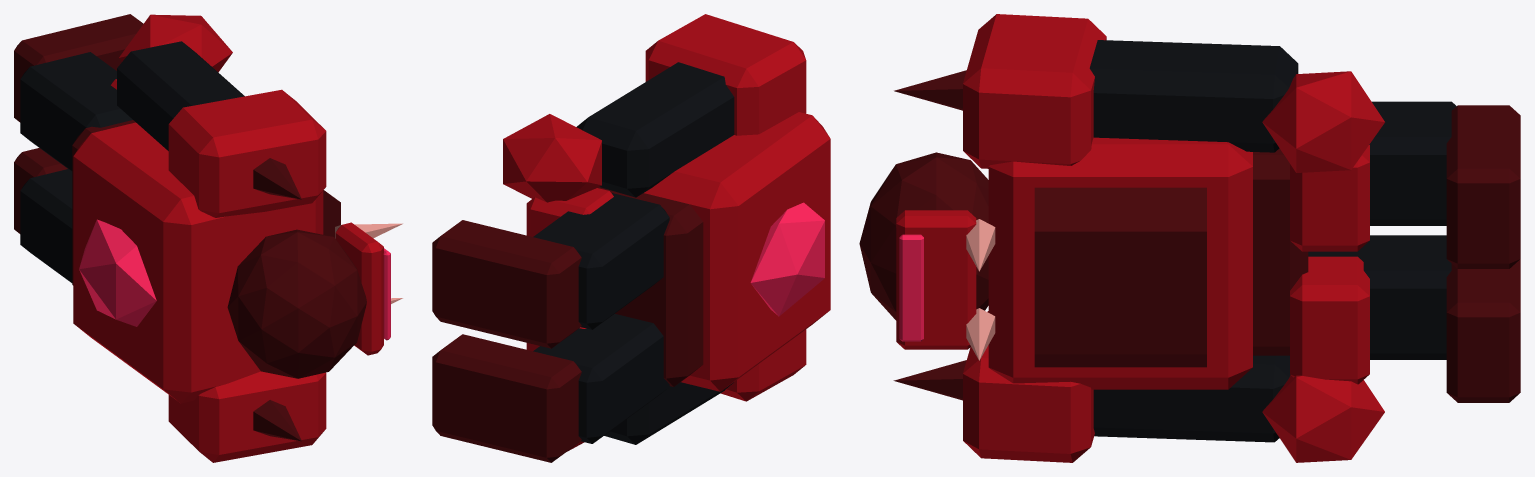
The model's file is enemy_chaser.obj.
3 views of the same model, side by side, from view 1: azimuth 30°, elevation 25°; view 2: azimuth 150°, elevation 25°; view 3: azimuth 270°, elevation 25° (orthographic). The views are drawn at different scales.
Visible parts, largest first — view 1: Chaser_Torso, Chaser_Helmet, Chaser_Shoulder_Port, Chaser_Shoulder_Starboard, Chaser_Leg_Port, Chaser_Arm_Port, Chaser_BackReactor, Chaser_Leg_Starboard, Chaser_Foot_Port, Chaser_Faceplate, Chaser_Fist_Port, Chaser_Foot_Starboard (+6 smaller); view 2: Chaser_Torso, Chaser_Foot_Port, Chaser_Foot_Starboard, Chaser_Arm_Port, Chaser_Shoulder_Port, Chaser_Leg_Port, Chaser_Leg_Starboard, Chaser_Pelvis, Chaser_Fist_Port, Chaser_BackReactor, Chaser_Arm_Starboard, Chaser_Shoulder_Starboard (+1 smaller); view 3: Chaser_Torso, Chaser_ChestPlate, Chaser_Arm_Port, Chaser_Shoulder_Port, Chaser_Foot_Port, Chaser_Shoulder_Starboard, Chaser_Arm_Starboard, Chaser_Leg_Starboard, Chaser_Foot_Starboard, Chaser_Leg_Port, Chaser_Helmet, Chaser_Knee_Starboard (+10 smaller).
Part boxes in pixels (x1,y1,x2,y2): Chaser_Torso: (73, 122, 323, 403); Chaser_Helmet: (227, 229, 366, 378); Chaser_Shoulder_Port: (168, 89, 326, 217); Chaser_Shoulder_Starboard: (168, 371, 326, 462); Chaser_Leg_Port: (20, 52, 132, 171); Chaser_Arm_Port: (117, 41, 244, 150); Chaser_BackReactor: (79, 219, 156, 326); Chaser_Leg_Starboard: (20, 169, 72, 282); Chaser_Foot_Port: (14, 14, 143, 122); Chaser_Faceplate: (335, 222, 383, 355); Chaser_Fist_Port: (119, 14, 232, 72); Chaser_Foot_Starboard: (14, 148, 67, 233); Chaser_Torso: (644, 112, 830, 391); Chaser_Foot_Port: (432, 220, 581, 348); Chaser_Foot_Starboard: (432, 334, 581, 462); Chaser_Arm_Port: (576, 62, 734, 197); Chaser_Shoulder_Port: (645, 14, 806, 135); Chaser_Leg_Port: (533, 193, 669, 329); Chaser_Leg_Starboard: (533, 314, 669, 443); Chaser_Pelvis: (598, 187, 703, 386); Chaser_Fist_Port: (503, 114, 601, 202); Chaser_BackReactor: (750, 202, 824, 316); Chaser_Arm_Starboard: (604, 382, 733, 444); Chaser_Shoulder_Starboard: (720, 329, 806, 401); Chaser_Torso: (988, 137, 1252, 389); Chaser_ChestPlate: (1034, 187, 1206, 367); Chaser_Arm_Port: (1089, 40, 1298, 152); Chaser_Shoulder_Port: (963, 14, 1106, 168); Chaser_Foot_Port: (1446, 105, 1520, 268); Chaser_Shoulder_Starboard: (963, 311, 1094, 462); Chaser_Arm_Starboard: (1093, 355, 1290, 442); Chaser_Leg_Starboard: (1308, 235, 1451, 359); Chaser_Foot_Starboard: (1446, 259, 1520, 402); Chaser_Leg_Port: (1369, 101, 1456, 225); Chaser_Helmet: (859, 152, 988, 320); Chaser_Knee_Starboard: (1290, 256, 1369, 384).
Size of the model in its own units: 56.81 by 70 by 108.
